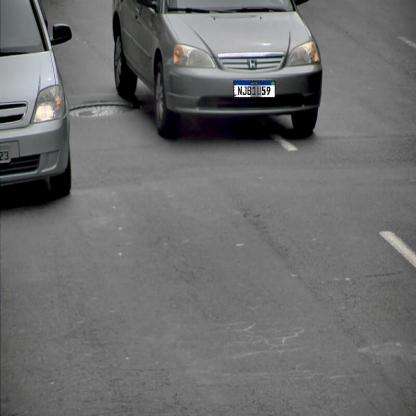PlacaM: (233, 80, 276, 98)
